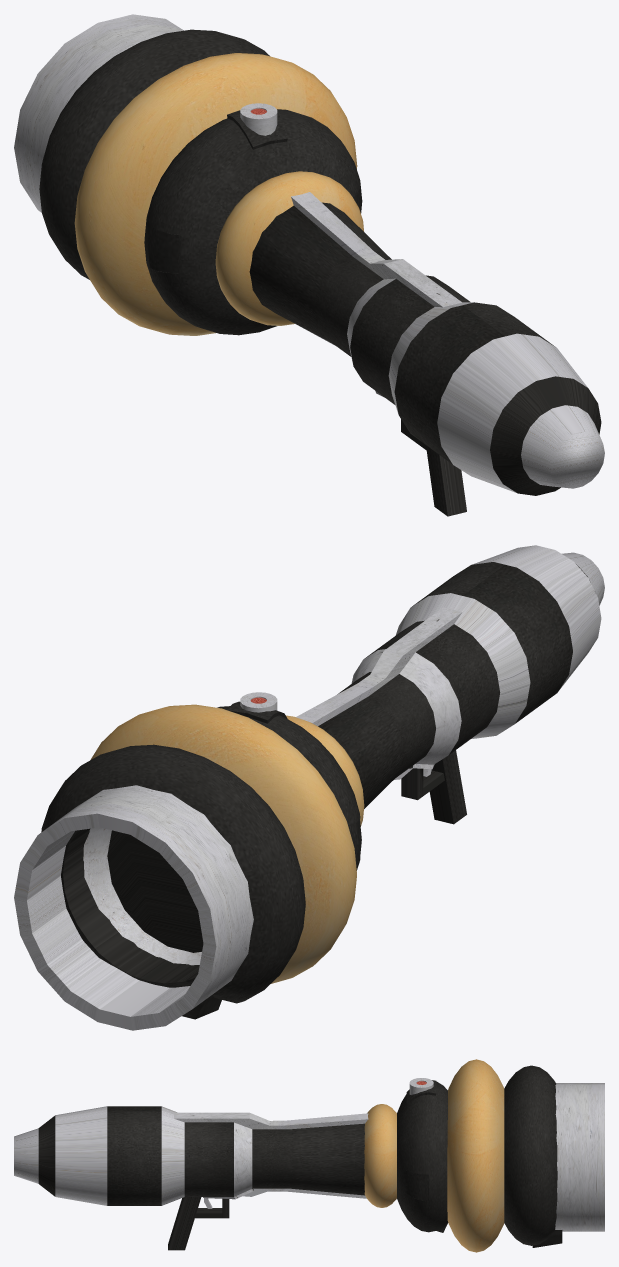
The model's file is pollinator_f5000.fbx.
3 renders of one model, top to bottom at view 1: azimuth 30°, elevation 25°; view 2: azimuth 150°, elevation 25°; view 3: azimuth 270°, elevation 25°, orthographic. The views are drawn at different scales.
Parts seen in each view (by area): view 1: Pollinator_f5000; view 2: Pollinator_f5000; view 3: Pollinator_f5000.
Part boxes in pixels (x1,y1,x2,y2): Pollinator_f5000: [14, 14, 604, 516]; Pollinator_f5000: [14, 545, 604, 1030]; Pollinator_f5000: [14, 1059, 604, 1252].
Size of the model in its own units: 16.53 by 15.97 by 48.06.
4 materials, 4 textured.
